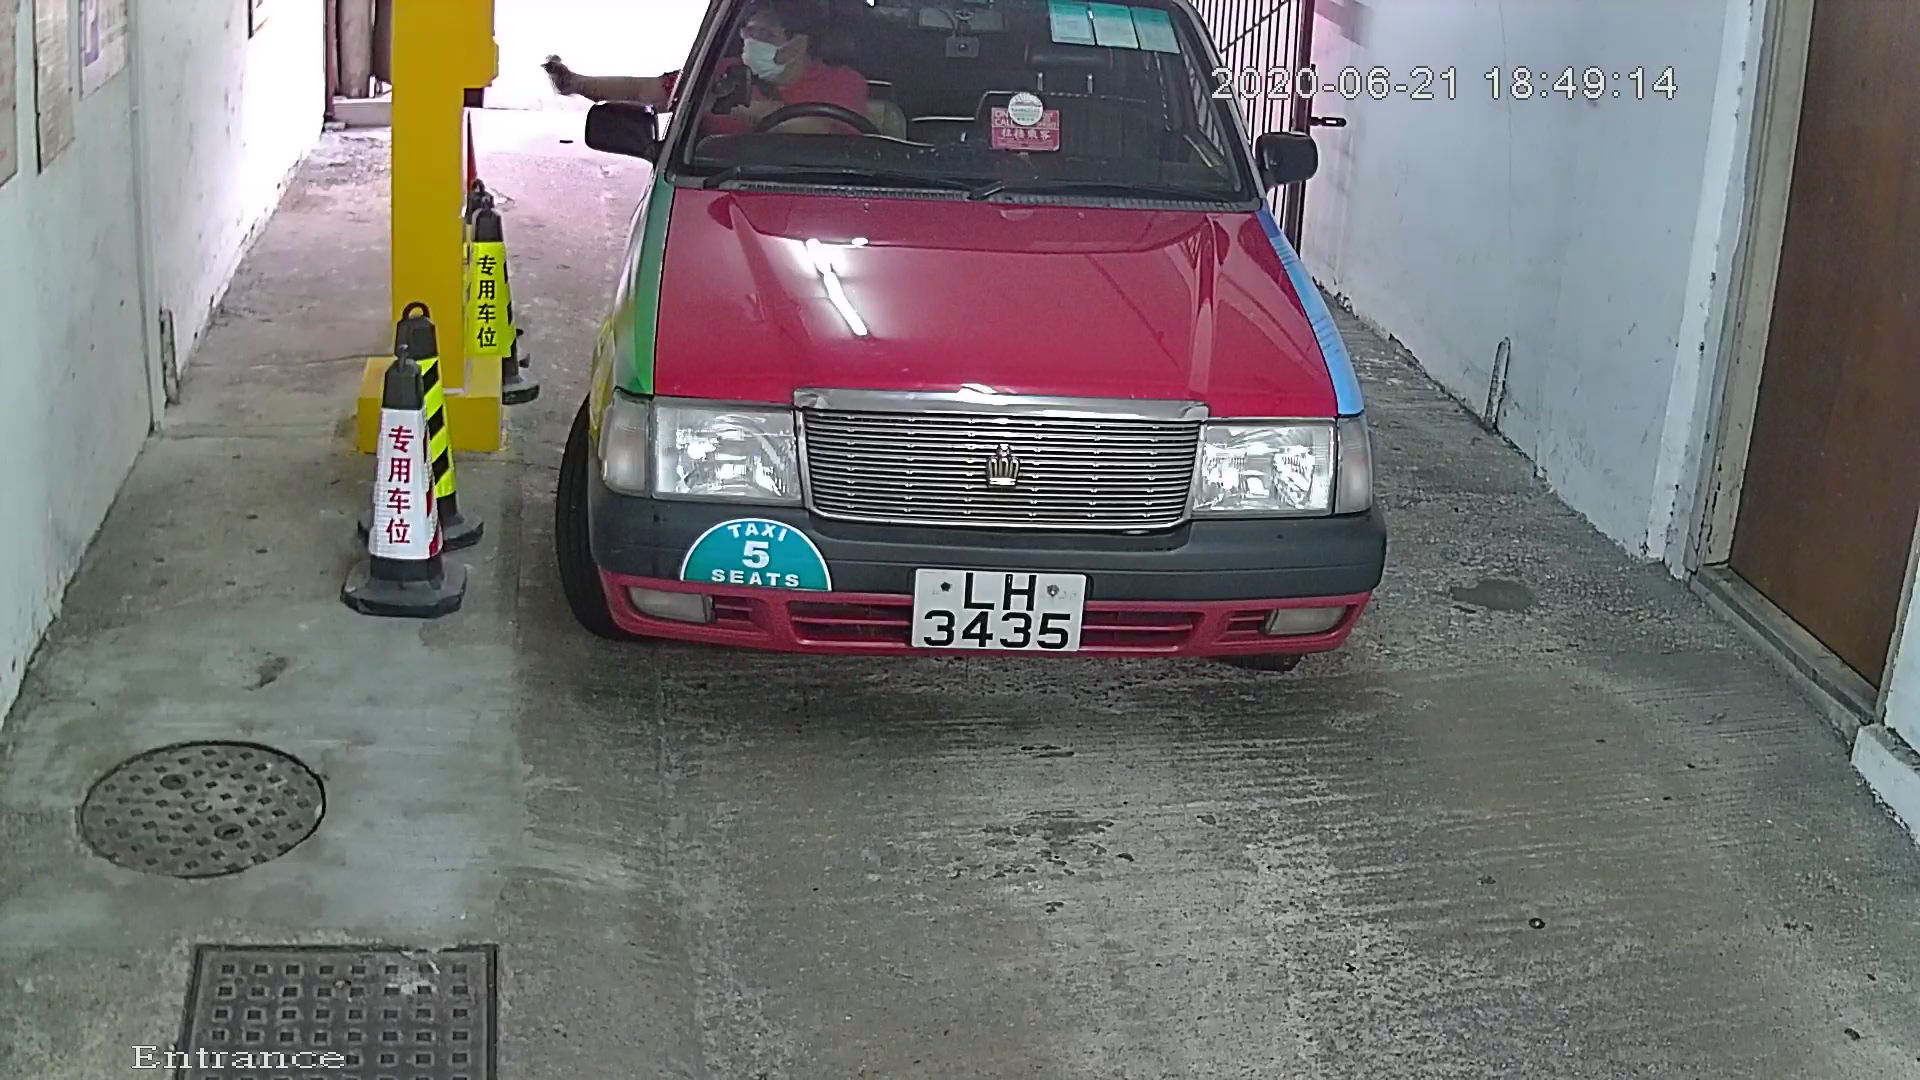taxi: (524, 1, 1452, 771)
taxi_mark: (655, 479, 864, 642)
